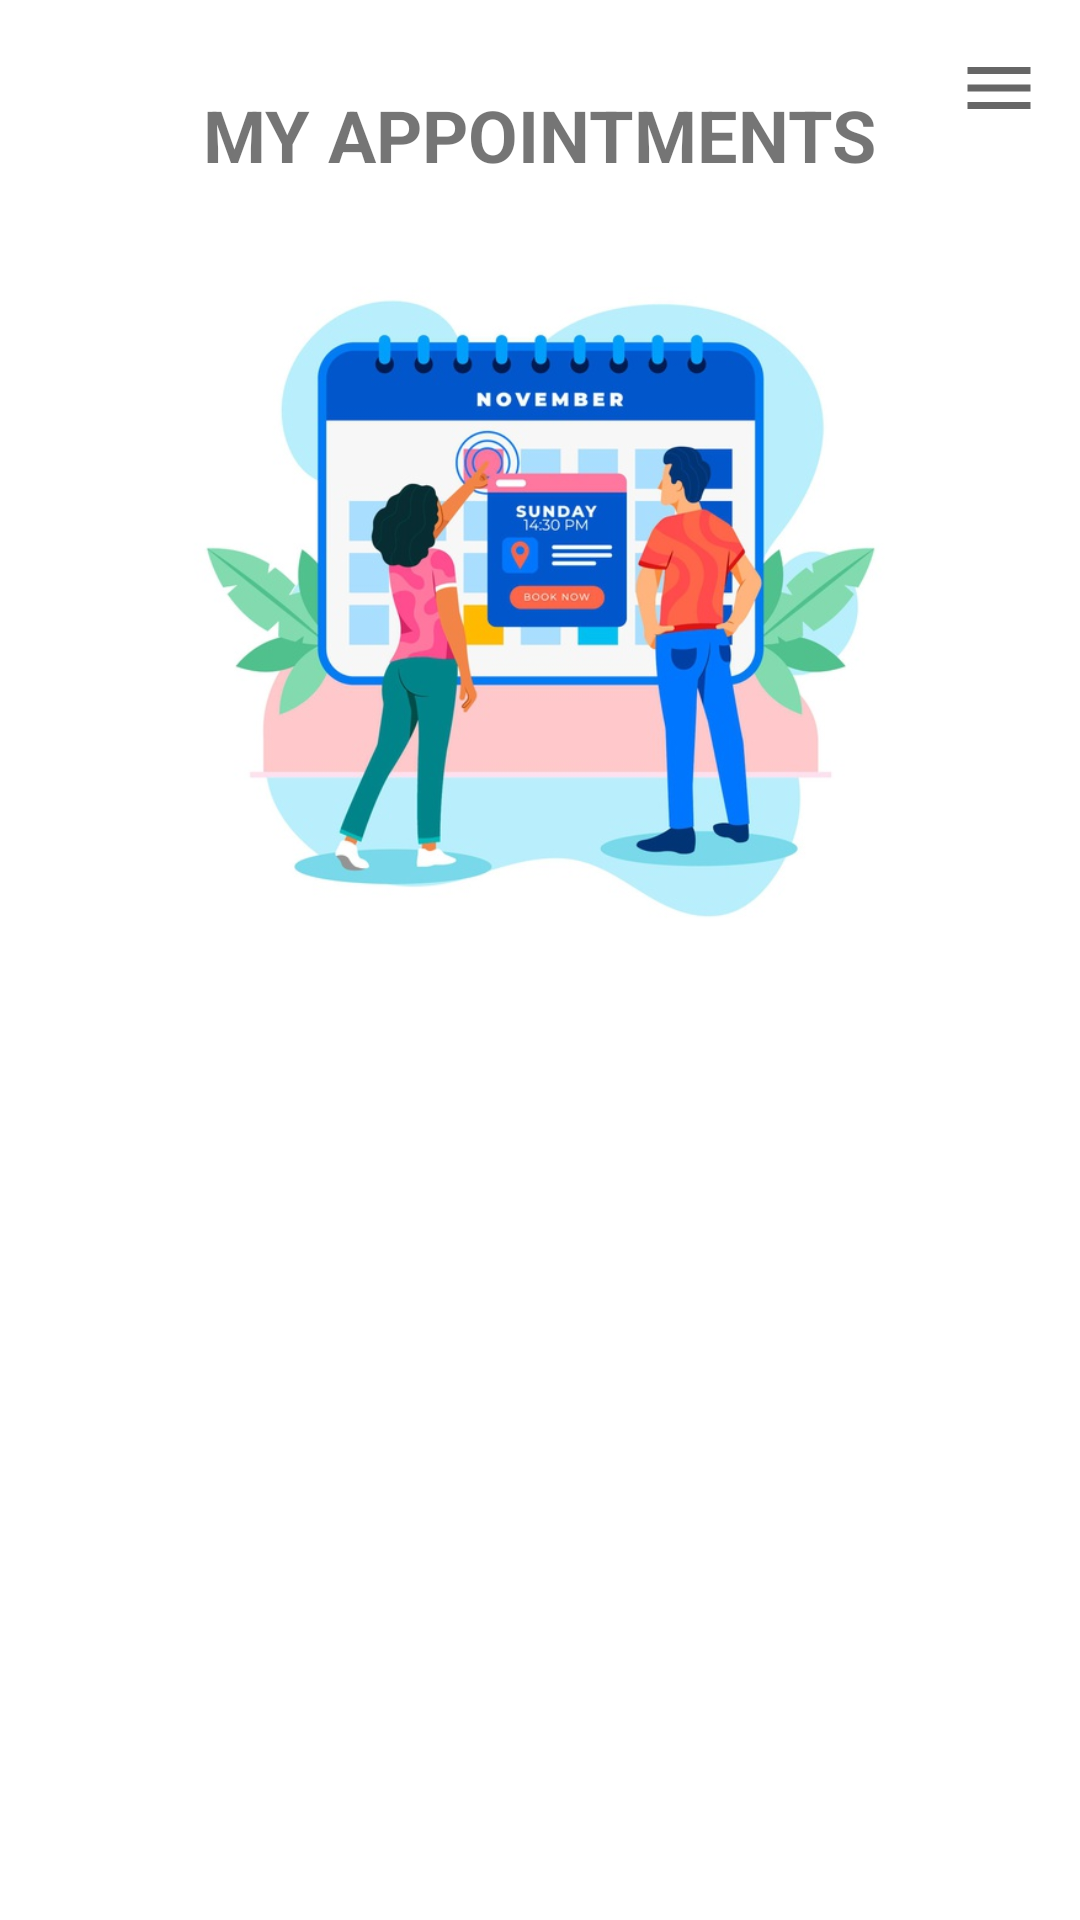

Locate icon controls on the screen. Image size 1080x1920, boxes as (x1, y1, x2, y2).
menu: (967, 67, 1031, 109)
